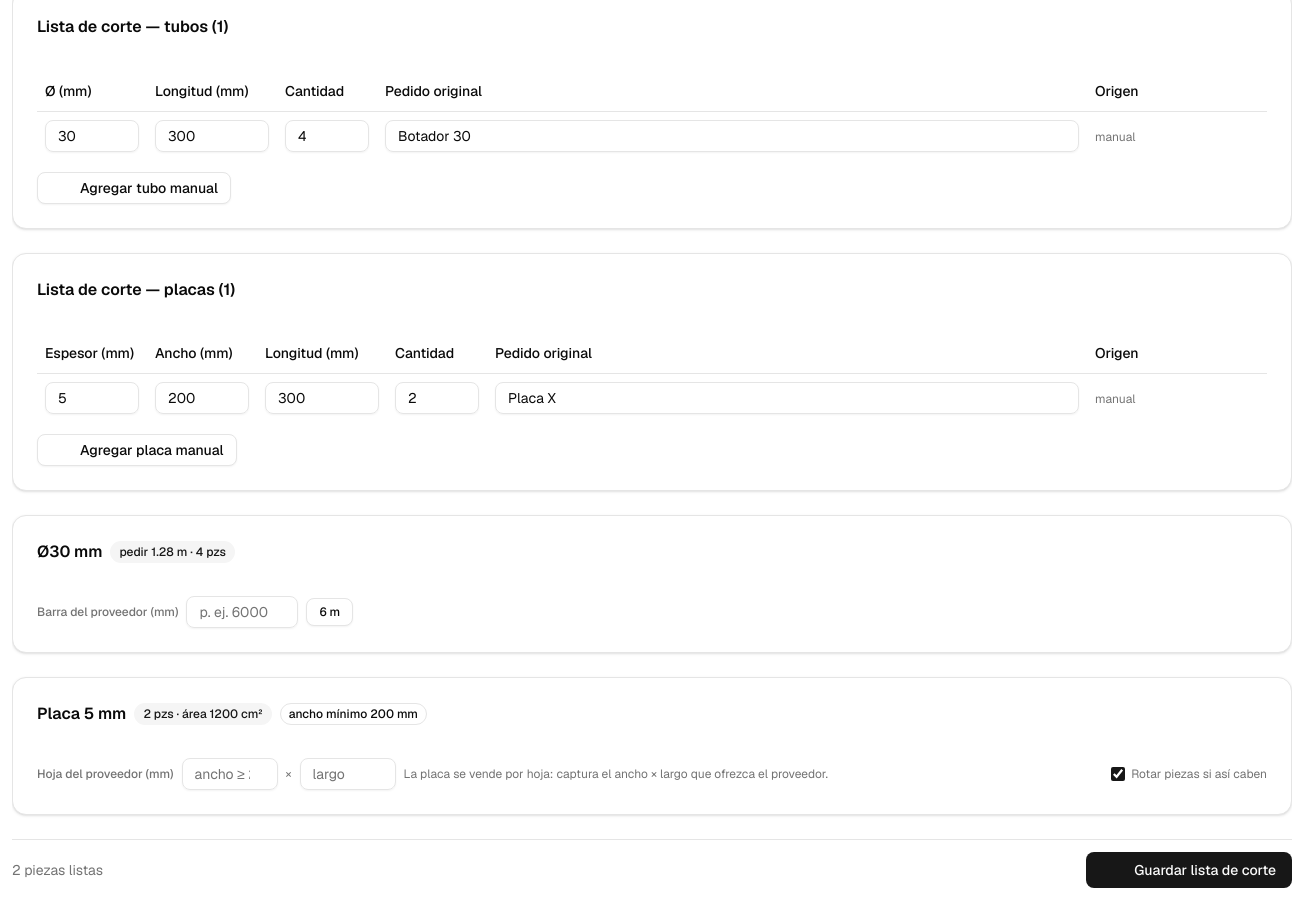
CutPlanner › capturar la hoja del proveedor (ancho × largo) acomoda las placas en hojas
The width and height of the screenshot is (1304, 900).
(page scrolled)
In the number field named "Ancho de la hoja del proveedor": (230, 774) 182,758 -> 278,790, type "450"
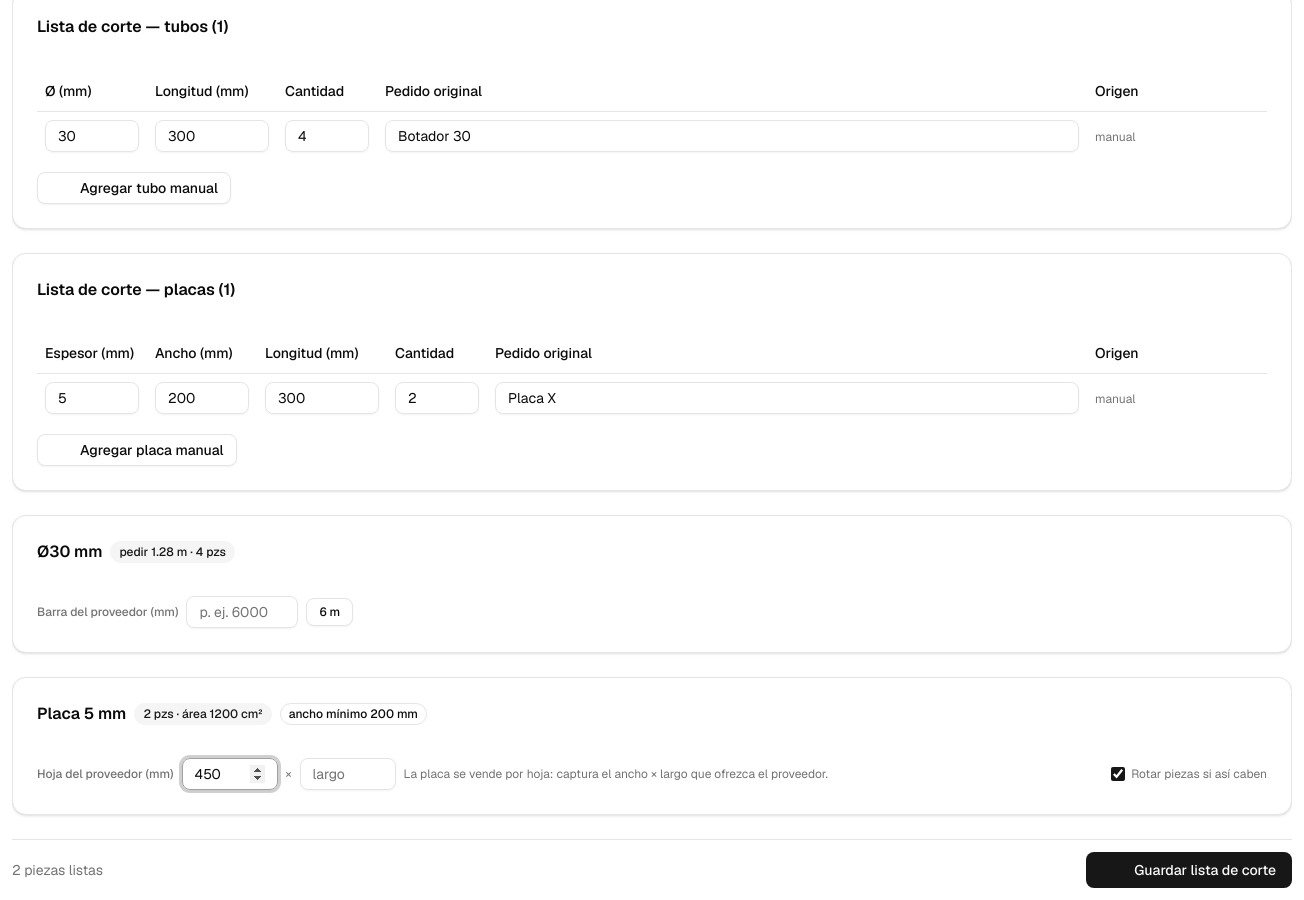
In the number field named "Largo de la hoja del proveedor": (348, 774) 300,758 -> 396,790, type "400"
(page scrolled)
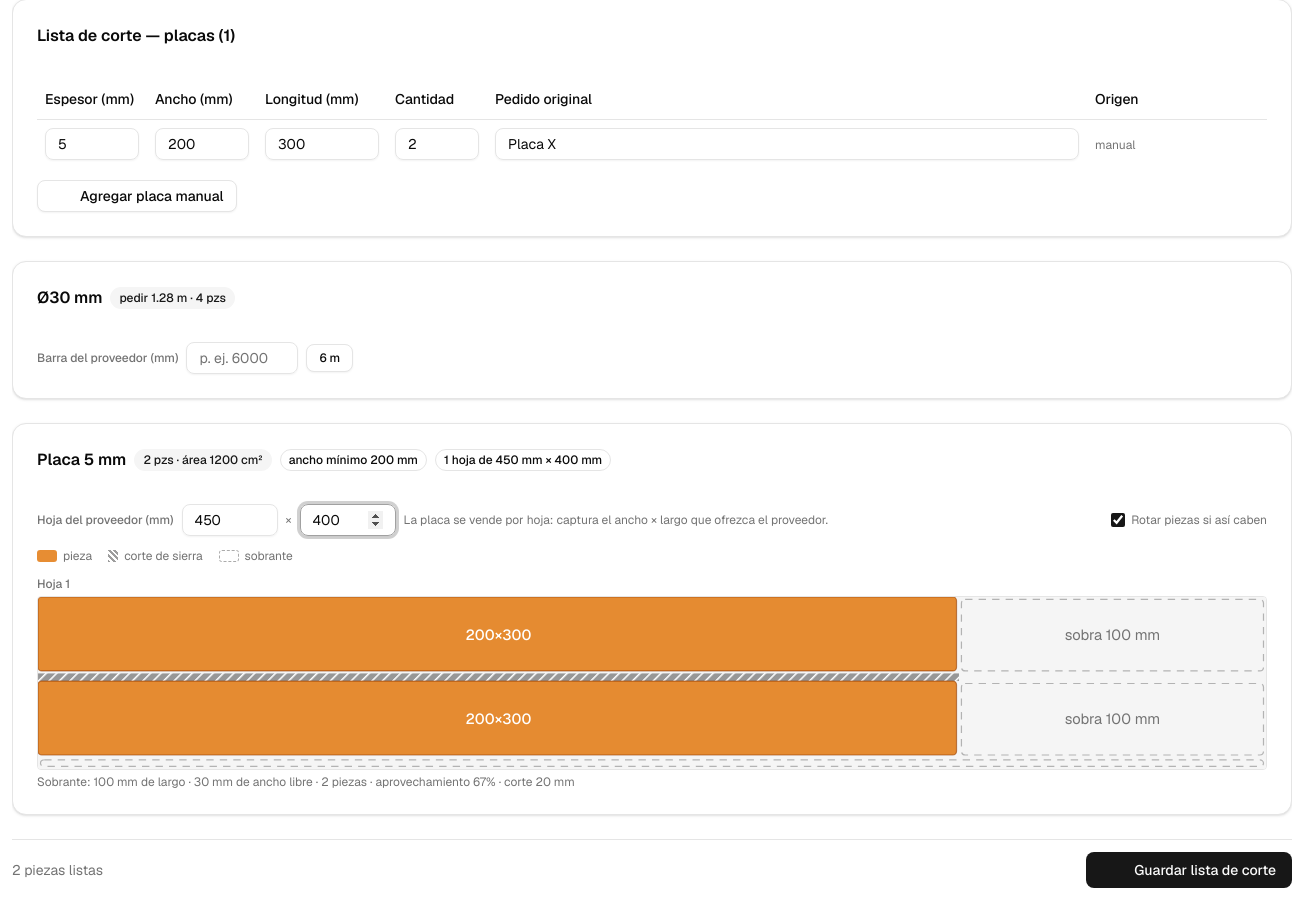
Now the text "Hoja 1" is shown, box 37,576 -> 70,592
Now the text "1 hoja de 450 mm × 400 mm" is shown, box 435,449 -> 611,471
Now the text "Sobrante: 100 mm de largo" is shown, box 37,774 -> 575,790
